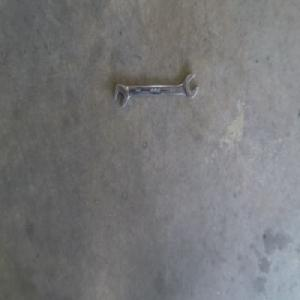Wrench: (113, 73, 198, 108)
